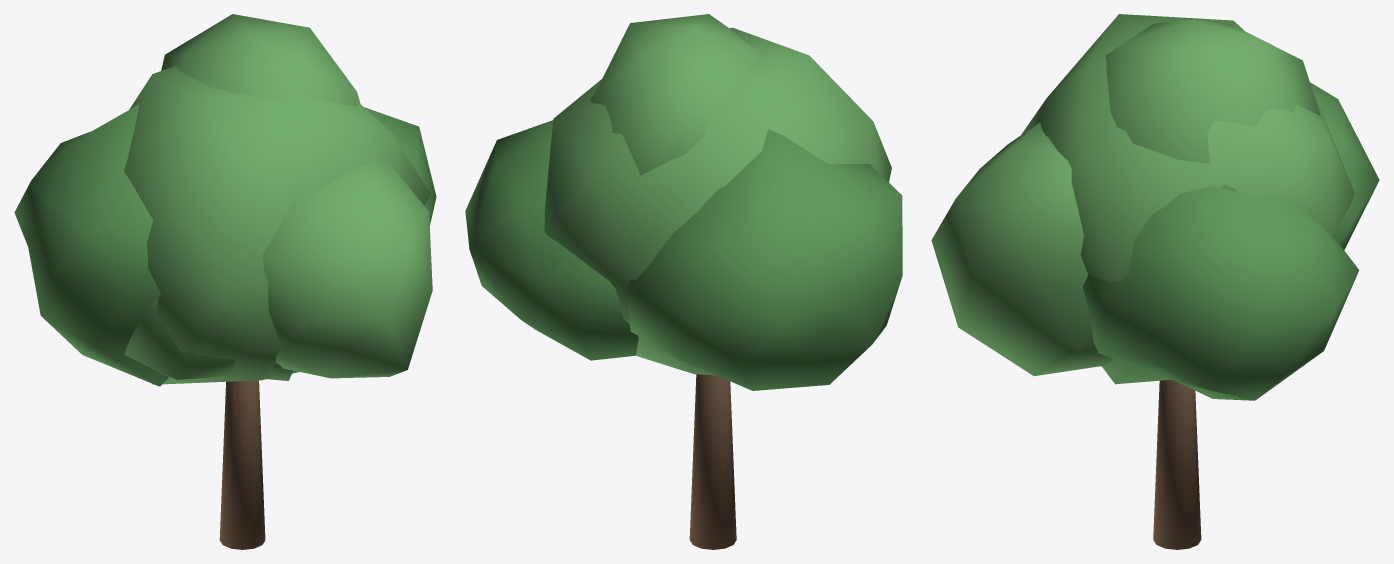
Rendered from tree1.glb.
The picture shows the model from 3 angles, left to right: view 1: azimuth 30°, elevation 25°; view 2: azimuth 150°, elevation 25°; view 3: azimuth 270°, elevation 25°; orthographic projection. The views are drawn at different scales.
Visible parts, largest first — view 1: Tree1; view 2: Tree1; view 3: Tree1.
Part boxes in pixels (x1=…): Tree1: x1=14, y1=14, x2=436, y2=549; Tree1: x1=465, y1=14, x2=902, y2=549; Tree1: x1=931, y1=14, x2=1379, y2=549.
Size of the model in its own units: 3.34 by 4.1 by 3.16.
